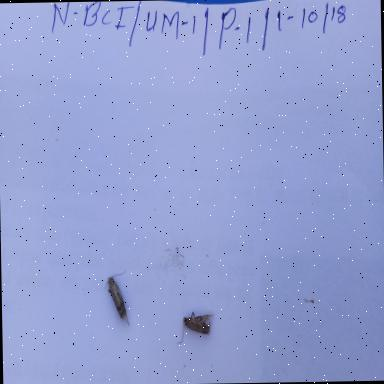pbw: (103, 265, 134, 333), (174, 306, 218, 350)
